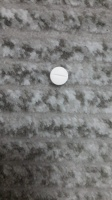Arveles: (49, 65, 69, 87)
